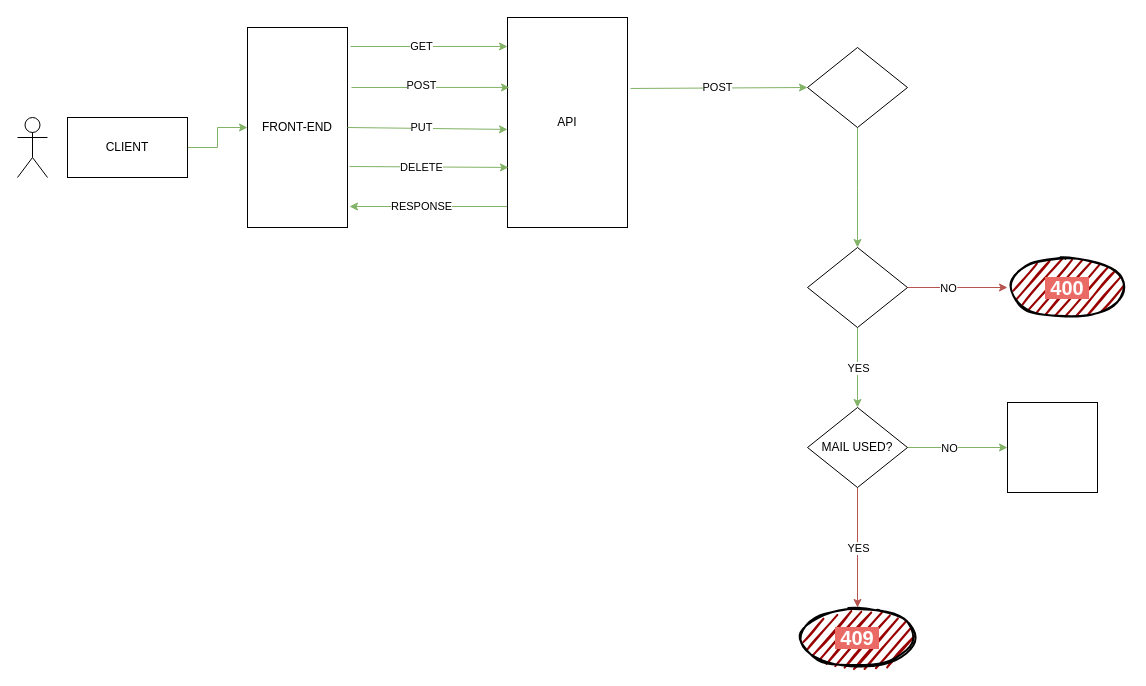
The diagram is 1146 pixels wide and 686 high, and some of its shapes have lost their labels. The shapes that lost their labels are listed below. From the top down, each one's centre as x and y in pixels, then its label:
At (857,87): "VALIDATIONS".
At (857,287): "VALID MAIL FORMAT?".
At (1052,447): "SIGNUP CONTROLLER".
